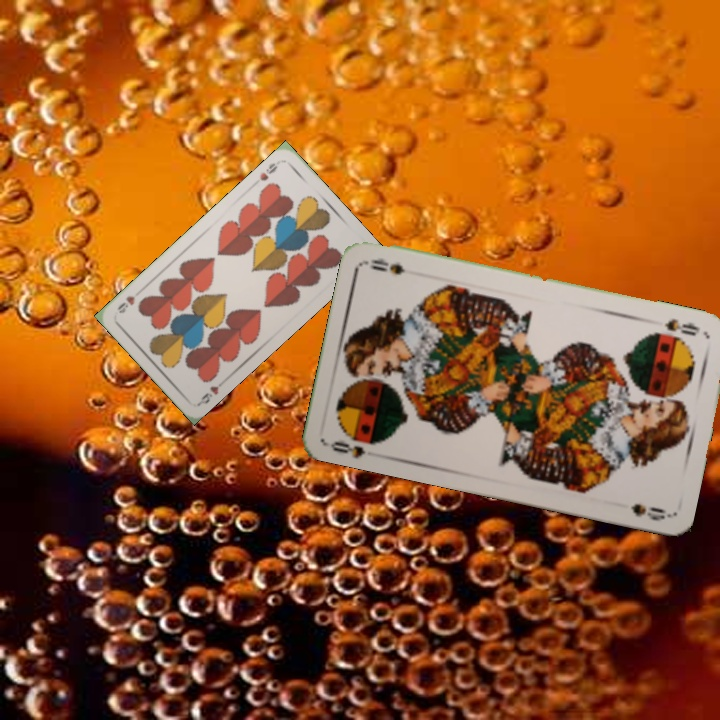H9: (195, 376, 228, 407), (256, 159, 280, 183)
SO: (661, 314, 703, 339), (326, 437, 369, 461)
